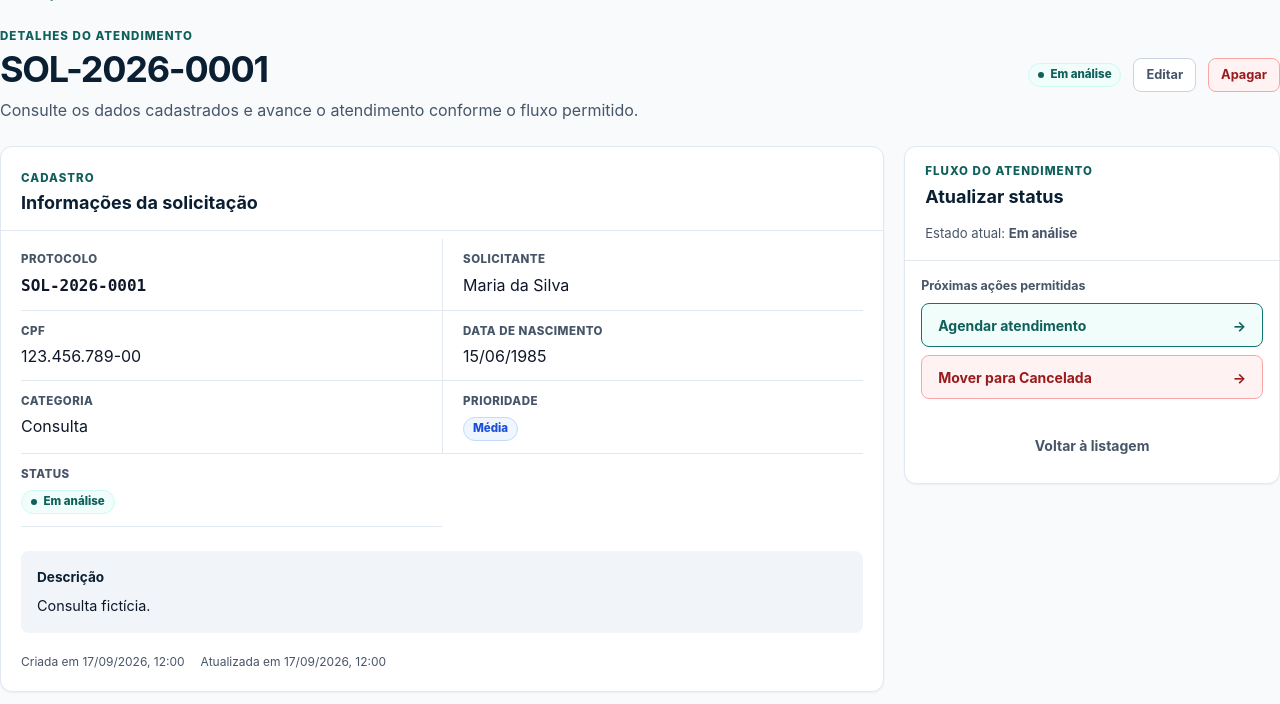
Test: Agendamento no detalhe da solicitação › agenda EM_ANALISE com data e hora obrigatórias
The width and height of the screenshot is (1280, 704).
Click the button "Agendar atendimento →".
click(1012, 325)  # box [921, 303, 1263, 347]
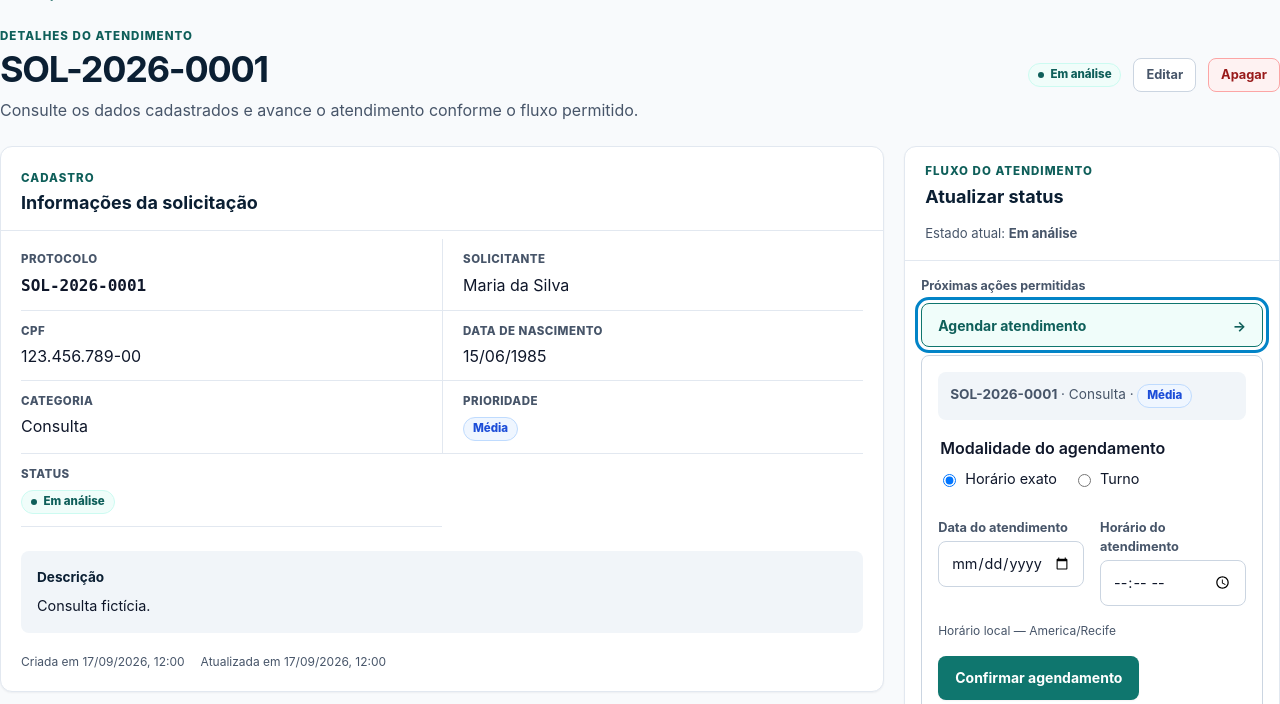
Type "2026-09-25" into the date field labelled "Data do atendimento".
click(1011, 564); type("2026-09-25")  # box [938, 541, 1084, 587]
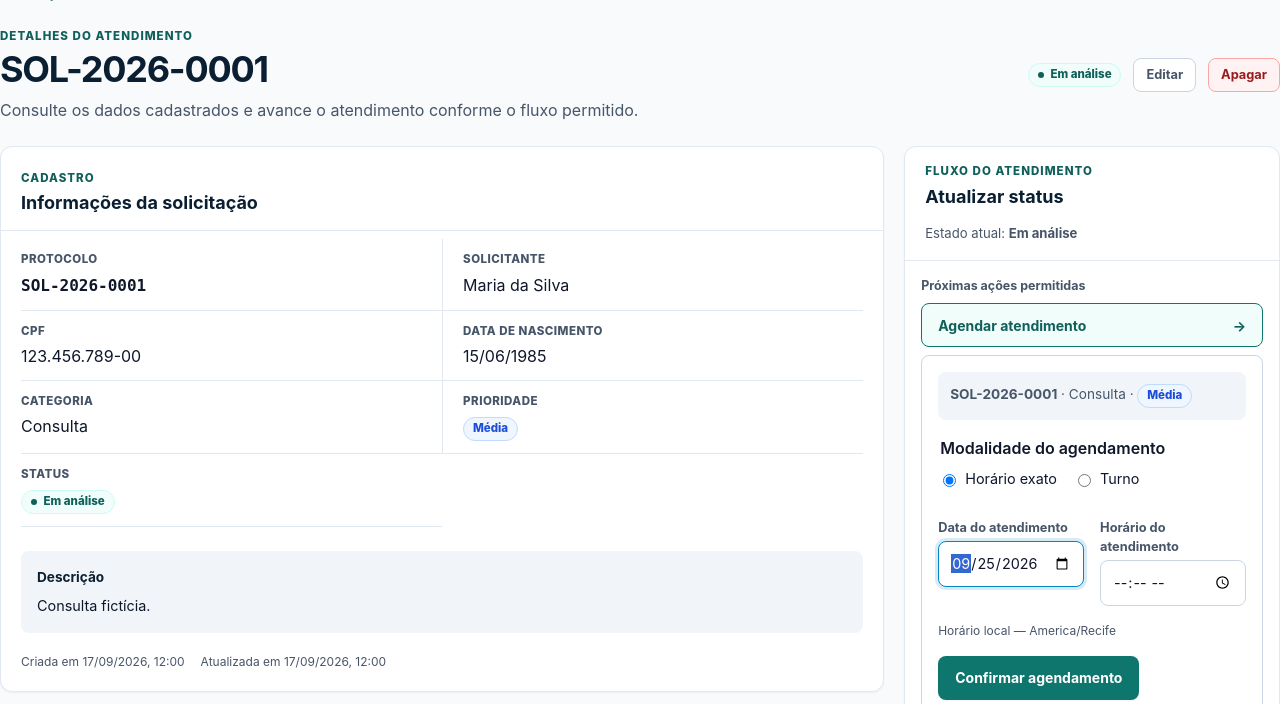
Type "14:30" into the time field labelled "Horário do atendimento".
click(1173, 583); type("14:30")  # box [1100, 560, 1246, 606]
(page scrolled)
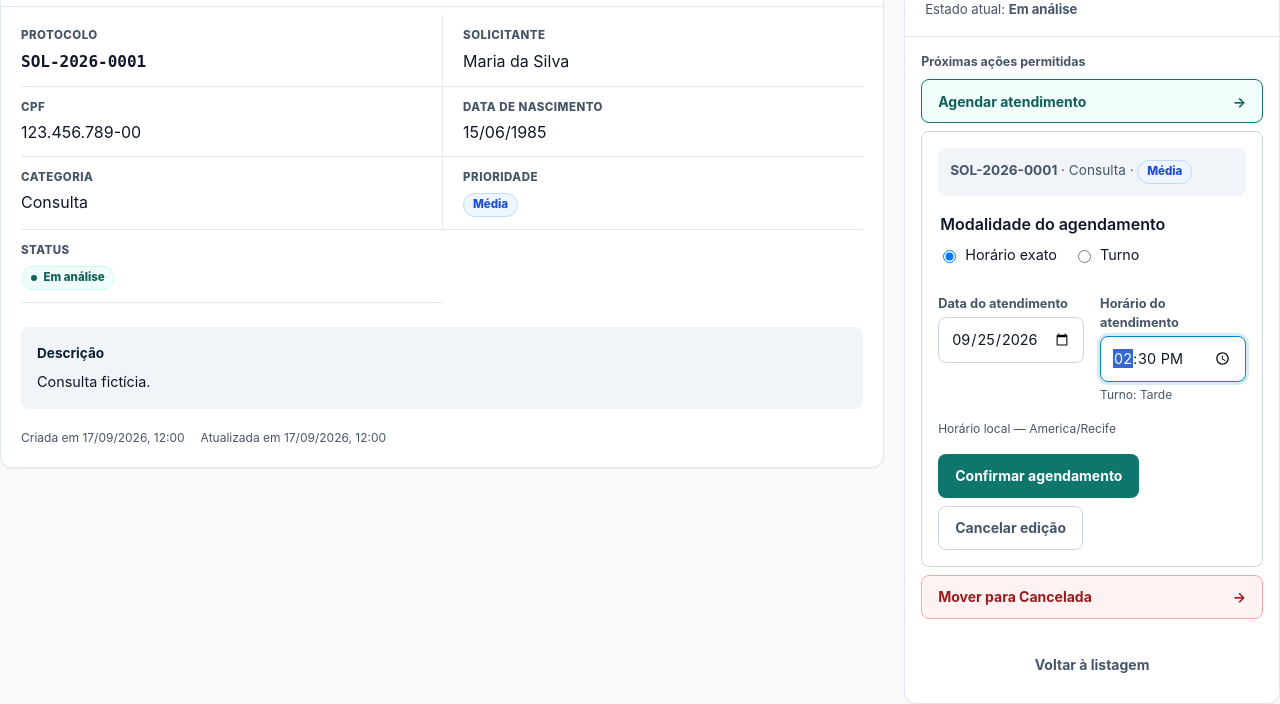
Click the button "Confirmar agendamento".
click(1039, 476)  # box [938, 454, 1140, 498]
(page scrolled)
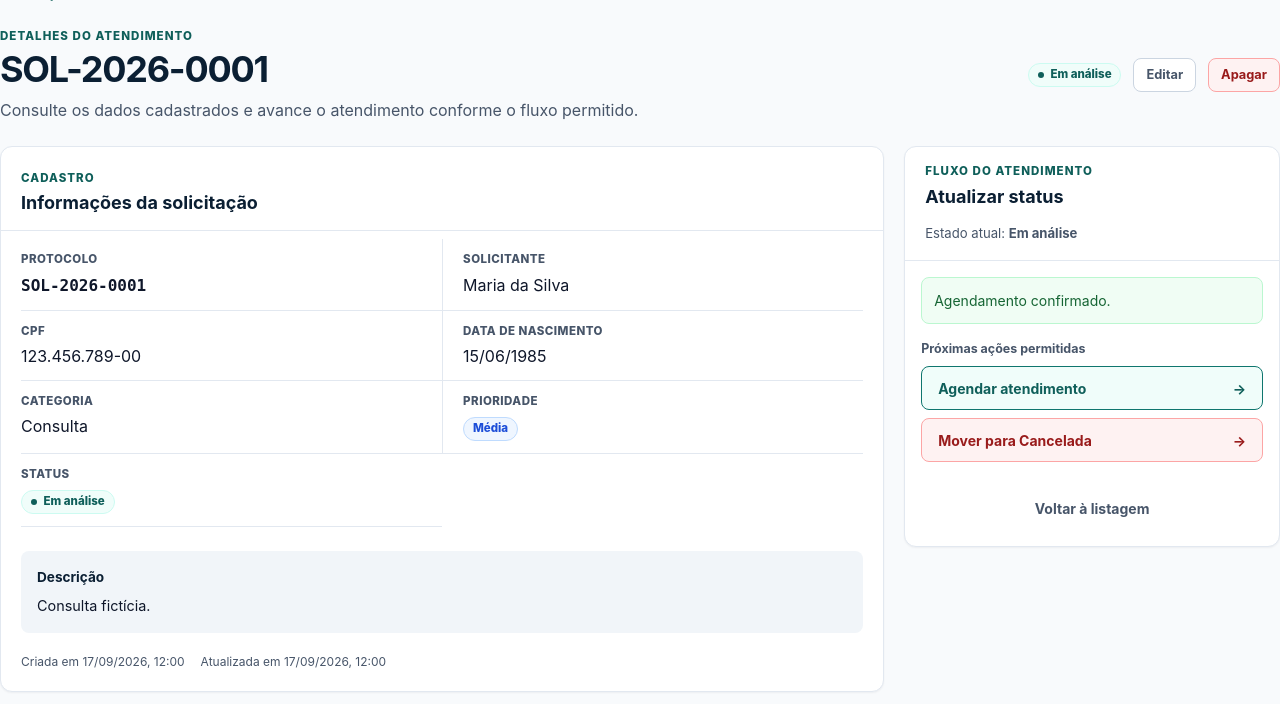
Check: the text "Agendamento confirmado." is shown, box [934, 290, 1111, 311]
Check: the message shows "Agendamento confirmado", box [934, 292, 1111, 309]
